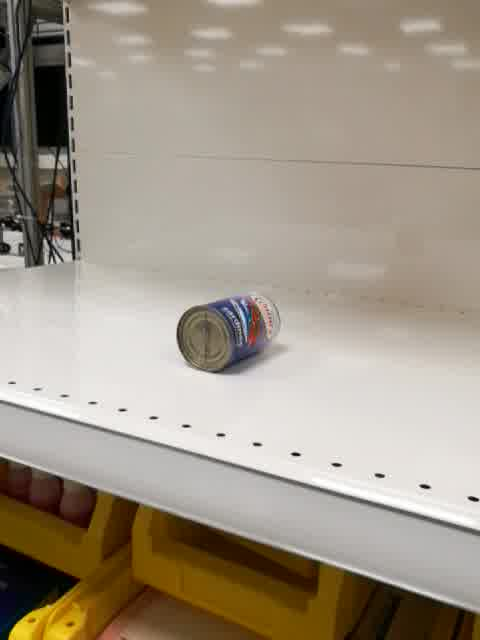sardine: (176, 292, 283, 372)
